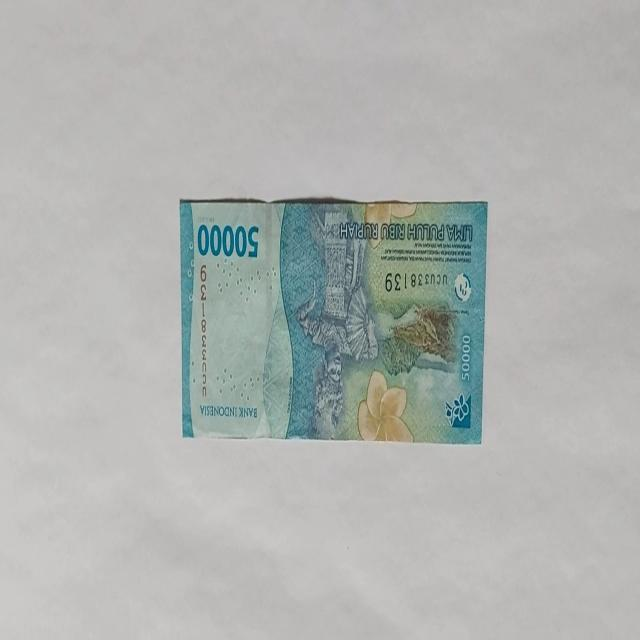lima puluh ribu rupiah: (178, 196, 488, 444), (196, 220, 260, 260)
